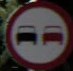No overtake: (3, 5, 66, 57)
